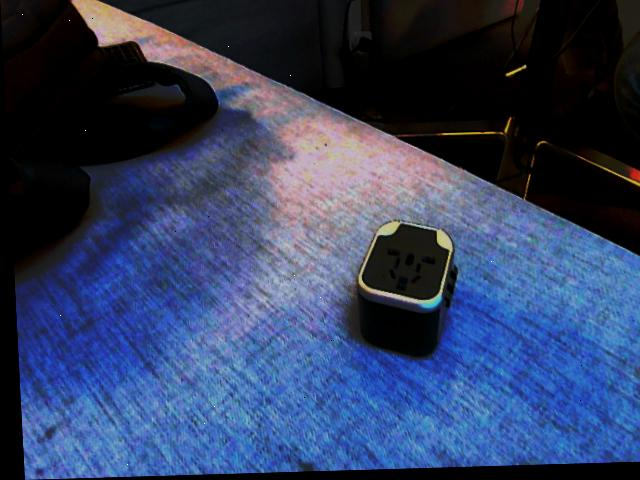adapter: (349, 220, 457, 360)
